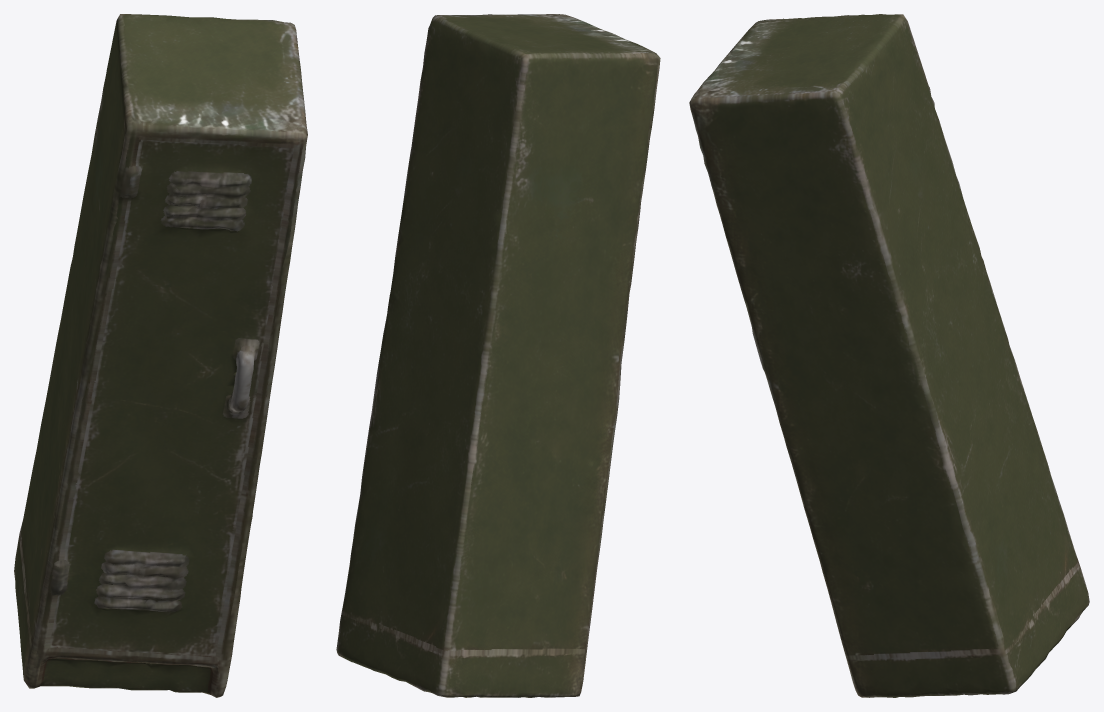
The model's file is bunker_locker_raw.glb.
3 renders of one model, left to right at view 1: azimuth 30°, elevation 25°; view 2: azimuth 150°, elevation 25°; view 3: azimuth 270°, elevation 25°, orthographic. The views are drawn at different scales.
Size of the model in its own units: 0.3137 by 0.9064 by 0.508.
Materials: 1 (1 with a texture image).
